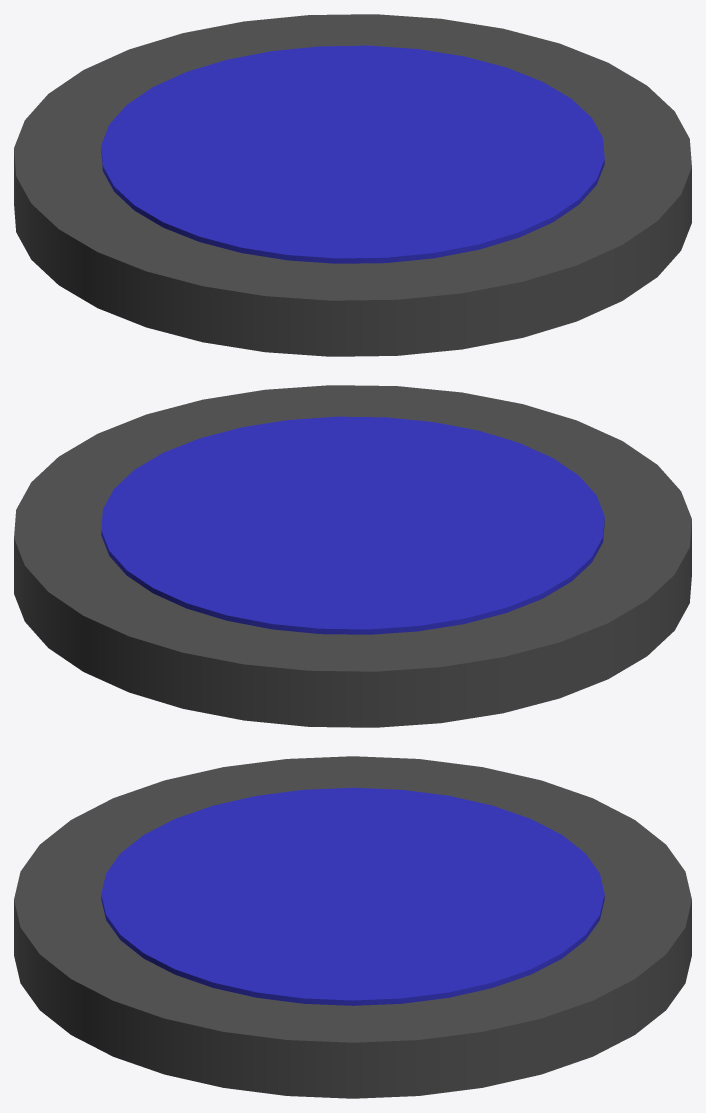
The model's file is button_blue_pushed.fbx.
3 renders of one model, top to bottom at view 1: azimuth 30°, elevation 25°; view 2: azimuth 150°, elevation 25°; view 3: azimuth 270°, elevation 25°, orthographic.
Visible parts, largest first — view 1: Mesh; view 2: Mesh; view 3: Mesh.
Boxes of the visible parts, x1=… form: Mesh: x1=14, y1=14, x2=691, y2=356; Mesh: x1=14, y1=385, x2=691, y2=727; Mesh: x1=14, y1=756, x2=691, y2=1098.
Bounding box in the file's own units: 1 × 0.0999 × 1.
